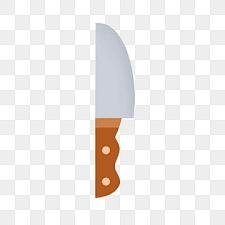Knife: (94, 22, 135, 198)
